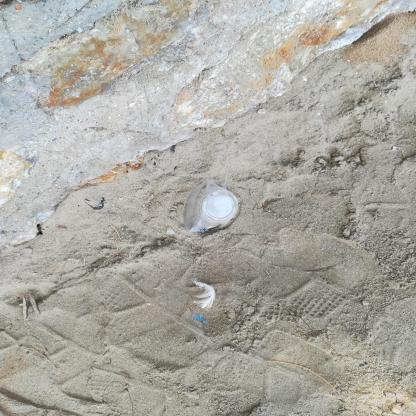plastik: (182, 178, 239, 234)
